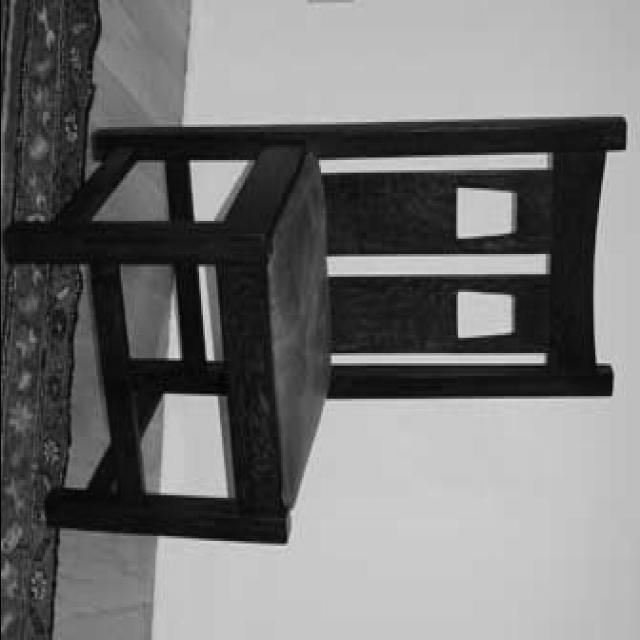chair: (6, 120, 626, 548)
